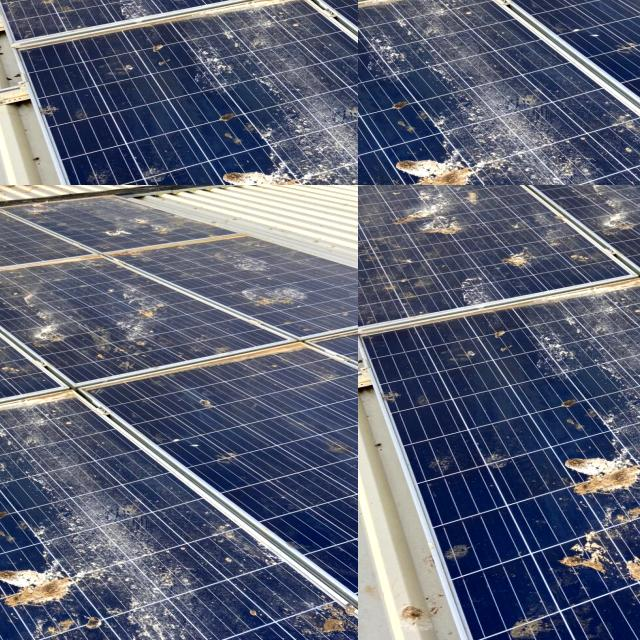bird: (548, 542, 640, 619), (545, 457, 640, 511), (383, 185, 482, 233), (55, 0, 145, 39), (581, 189, 640, 247), (470, 240, 541, 276), (515, 185, 577, 215), (501, 623, 573, 640)
crack: (447, 0, 640, 84), (358, 0, 524, 83), (443, 0, 621, 37), (358, 0, 493, 36), (546, 0, 640, 43), (358, 0, 463, 30)
shadow: (0, 185, 24, 252), (0, 185, 16, 236), (0, 193, 17, 239)
